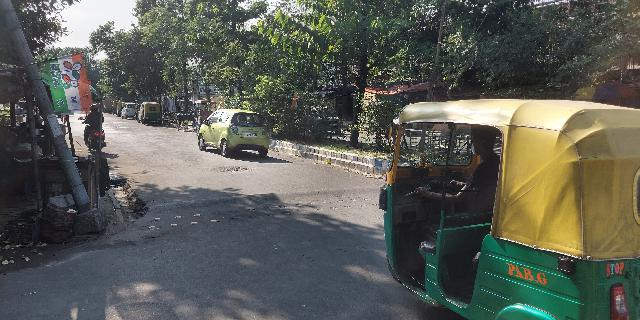Autorickshaw: (374, 90, 640, 320), (141, 100, 164, 128)
Car: (195, 108, 273, 162)
Motorbike: (80, 101, 107, 155)
